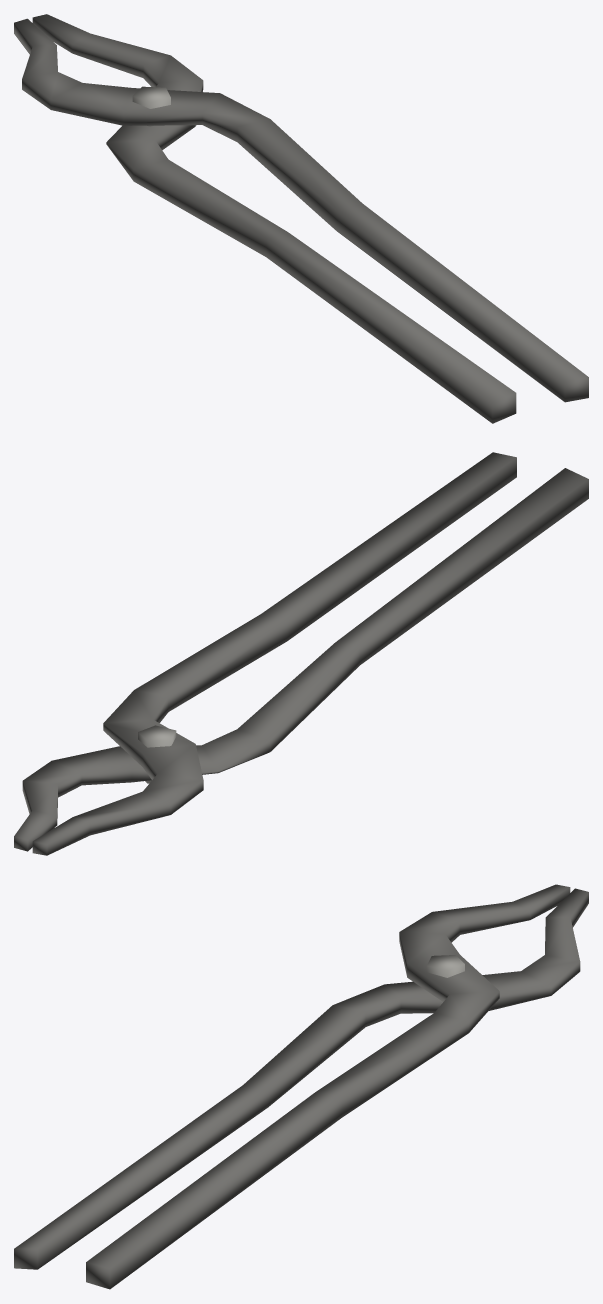
Rendered from rpgpp_ag_pliers_01.fbx.
The picture shows the model from 3 angles, top to bottom: view 1: azimuth 30°, elevation 25°; view 2: azimuth 150°, elevation 25°; view 3: azimuth 330°, elevation 25°; orthographic projection.
Parts seen in each view (by area): view 1: rpgpp_ag_pliers_01; view 2: rpgpp_ag_pliers_01; view 3: rpgpp_ag_pliers_01.
Boxes of the visible parts, x1,y1,x2,y2 form: rpgpp_ag_pliers_01: (14, 14, 588, 423); rpgpp_ag_pliers_01: (14, 452, 588, 855); rpgpp_ag_pliers_01: (14, 884, 588, 1289).
Size of the model in its own units: 0.0912 by 0.0243 by 0.5306.
